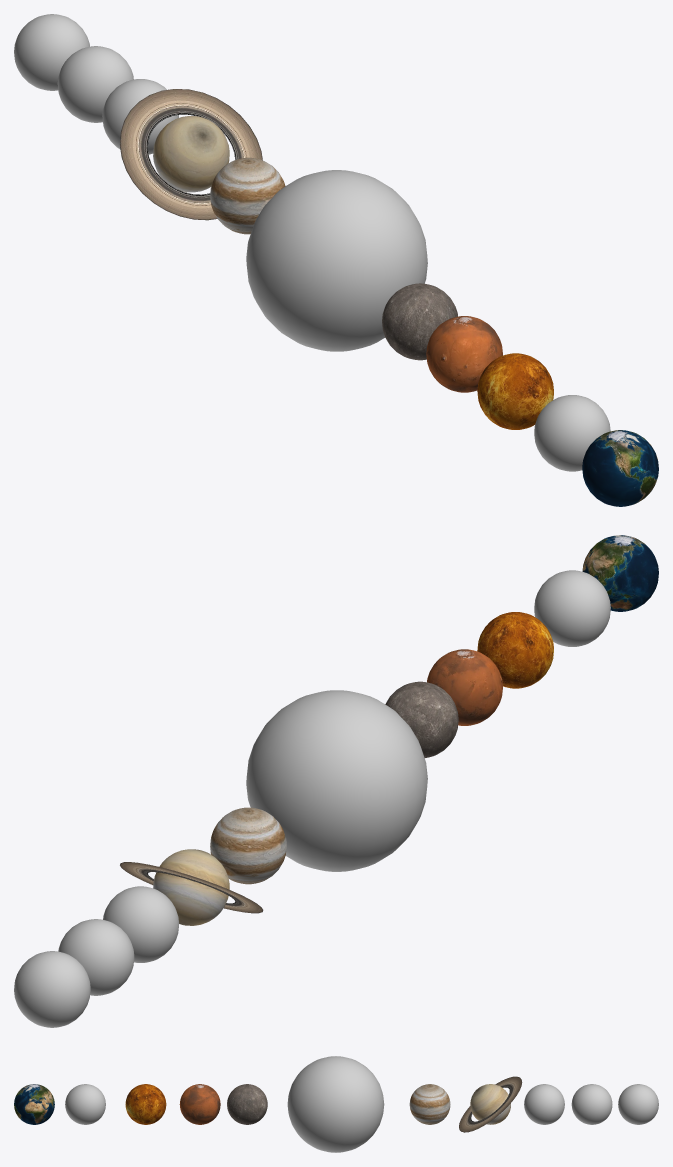
File: Planets.fbx
3 renders of one model, top to bottom at view 1: azimuth 30°, elevation 25°; view 2: azimuth 150°, elevation 25°; view 3: azimuth 270°, elevation 25°, orthographic. The views are drawn at different scales.
Visible parts, largest first — view 1: Sun, Ring, Earth, Venus, Saturn, Mars, Moon, Neptune, Jupiter, Mercury, Pluto, Uranus; view 2: Sun, Pluto, Jupiter, Moon, Venus, Earth, Saturn, Uranus, Mars, Neptune, Mercury, Ring; view 3: Sun, Uranus, Earth, Pluto, Moon, Mars, Neptune, Venus, Jupiter, Mercury, Saturn, Ring.
Boxes of the visible parts, x1,y1,x2,y2 form: Sun: [246, 170, 427, 351]; Ring: [119, 89, 262, 220]; Earth: [582, 430, 658, 506]; Venus: [477, 353, 553, 429]; Saturn: [153, 116, 229, 192]; Mars: [426, 316, 502, 392]; Moon: [534, 395, 610, 471]; Neptune: [57, 46, 133, 122]; Jupiter: [210, 157, 285, 234]; Mercury: [382, 283, 457, 360]; Pluto: [14, 14, 89, 90]; Uranus: [102, 79, 178, 154]; Sun: [246, 690, 427, 871]; Pluto: [14, 951, 90, 1027]; Jupiter: [210, 807, 286, 884]; Moon: [534, 570, 610, 646]; Venus: [477, 612, 553, 688]; Earth: [582, 535, 658, 611]; Saturn: [153, 849, 229, 925]; Uranus: [103, 886, 179, 962]; Mars: [427, 649, 502, 725]; Neptune: [58, 919, 134, 995]; Mercury: [385, 681, 458, 757]; Ring: [120, 862, 263, 913]; Sun: [287, 1056, 384, 1152]; Uranus: [524, 1084, 564, 1124]; Earth: [14, 1084, 54, 1124]; Pluto: [618, 1084, 658, 1124]; Moon: [65, 1084, 105, 1124]; Mars: [179, 1084, 220, 1124]; Neptune: [571, 1084, 612, 1124]; Venus: [125, 1084, 166, 1124]; Jupiter: [409, 1084, 450, 1124]; Mercury: [227, 1084, 267, 1124]; Saturn: [470, 1084, 510, 1124]; Ring: [459, 1076, 522, 1132].
Bounding box in the file's own units: 473 × 473 × 3155.
